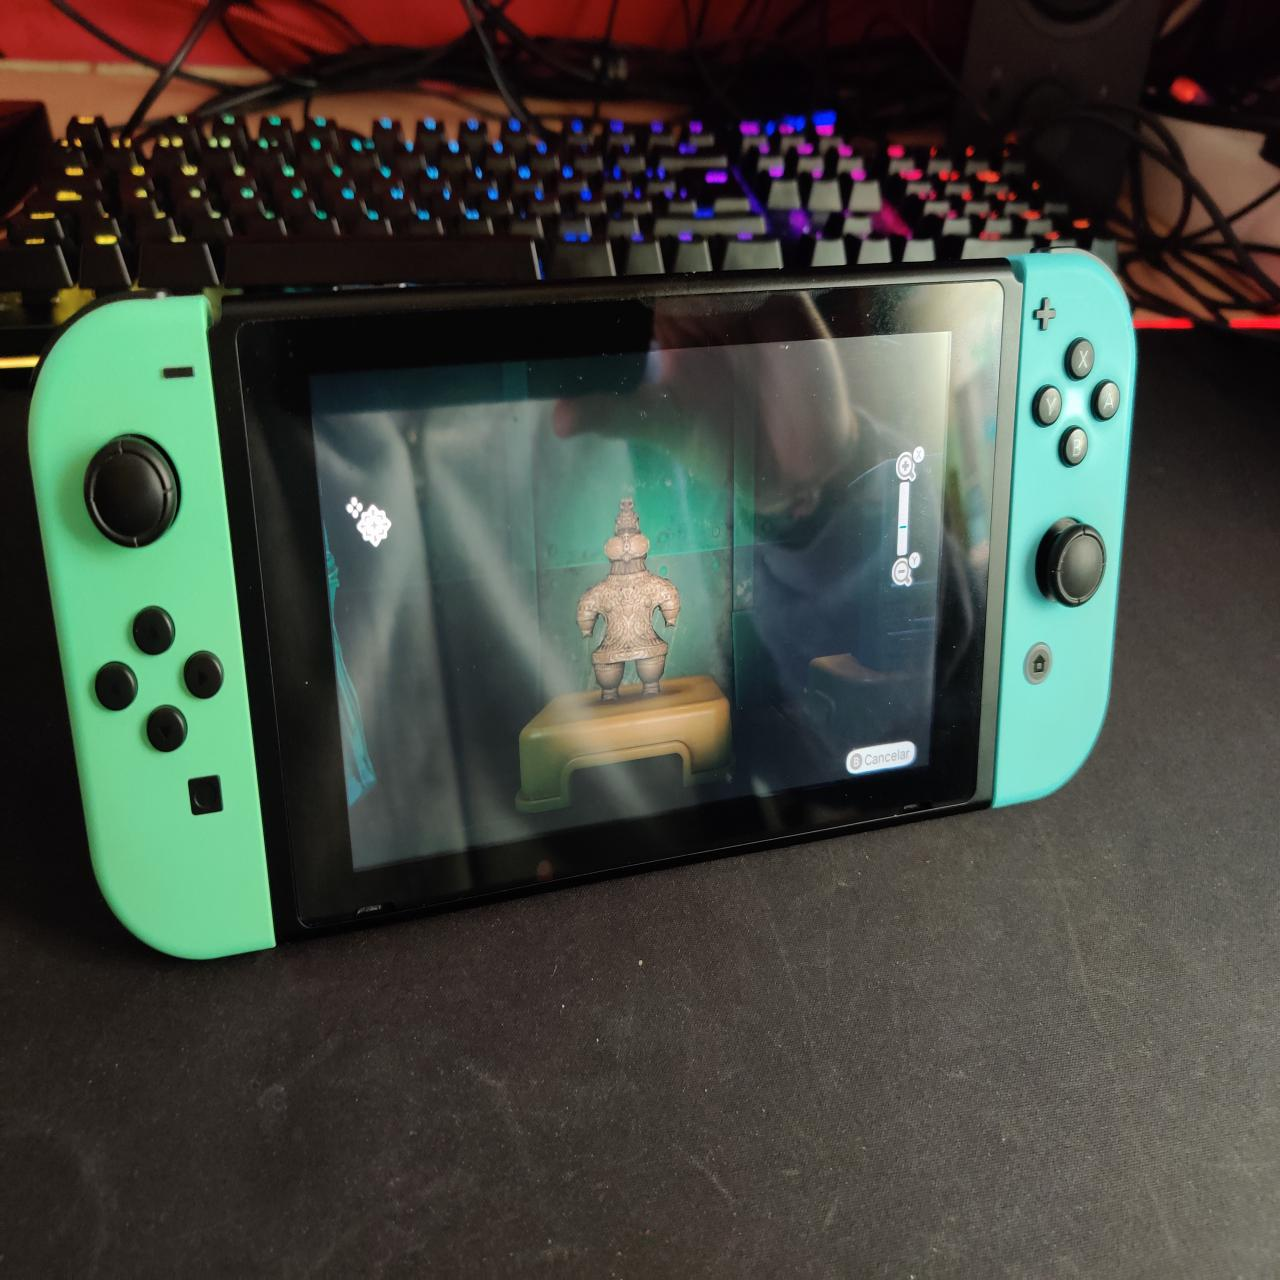Doguu: (574, 489, 686, 712)
